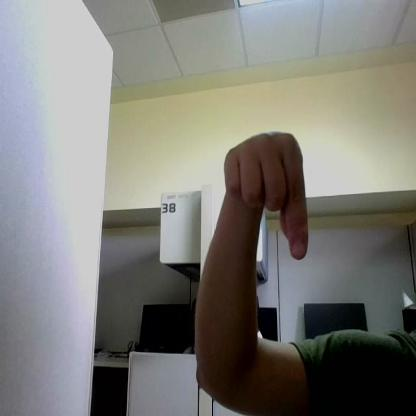Q: (224, 132, 308, 259)
